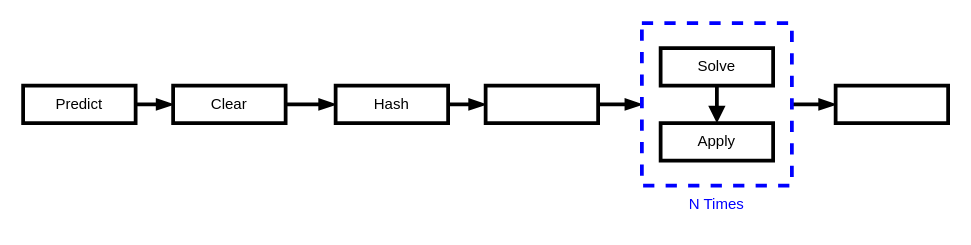
Some shapes in this 971 by 245 pixel diagram are drawn without their labels. The shapes that lost their labels are listed below. From the top down, each one's centre as x and y in pixels, then its label:
At pixel 541 103: "Assign LOD".
At pixel 891 103: "Finalize".
